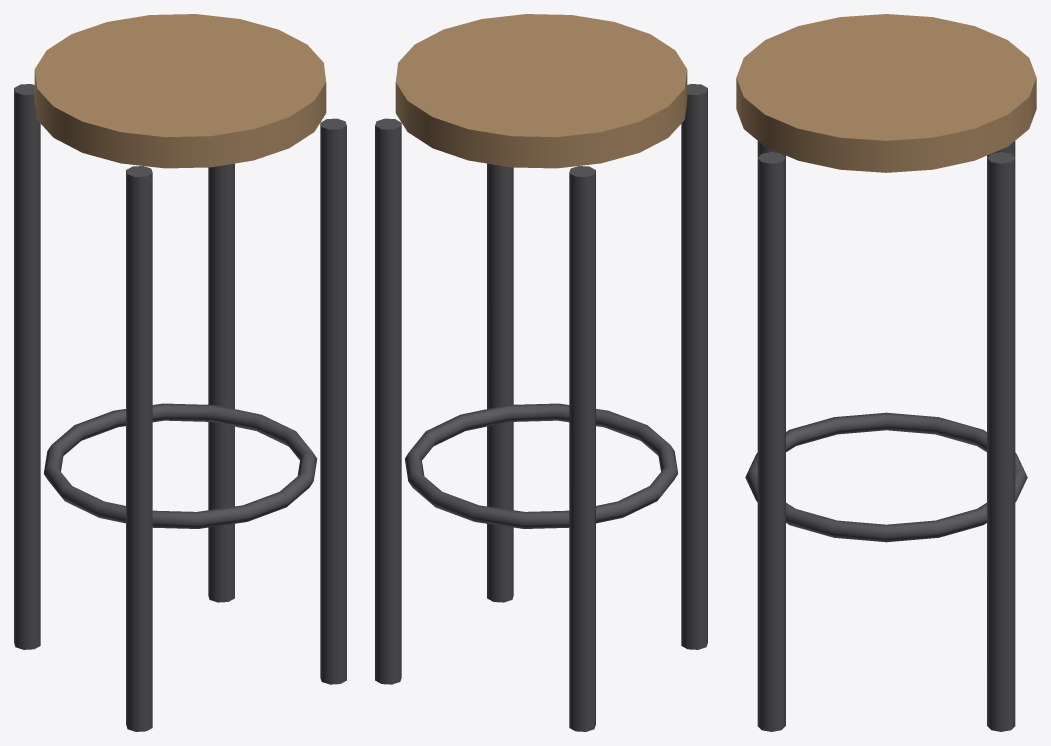
File: BarStool.glb
The picture shows the model from 3 angles, left to right: view 1: azimuth 30°, elevation 25°; view 2: azimuth 150°, elevation 25°; view 3: azimuth 270°, elevation 25°; orthographic projection. The views are drawn at different scales.
Visible parts, largest first — view 1: BarStool; view 2: BarStool; view 3: BarStool.
Part boxes in pixels (x1=…): BarStool: x1=14, y1=14, x2=346, y2=731; BarStool: x1=375, y1=14, x2=707, y2=731; BarStool: x1=736, y1=14, x2=1036, y2=731.
Bounding box in the file's own units: 0.34 × 0.75 × 0.34.
